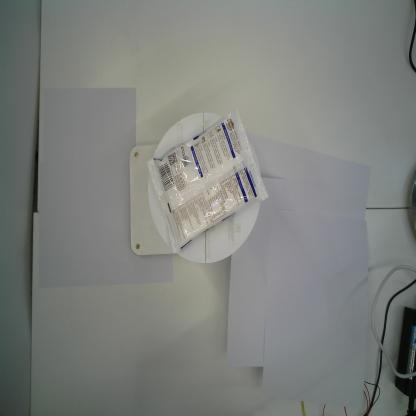Seasoner: (144, 107, 271, 254)
